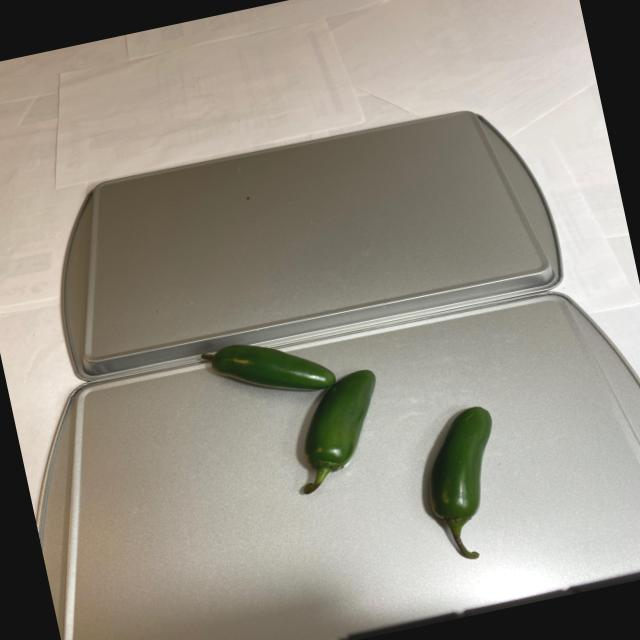chilli: (191, 290, 527, 615)
